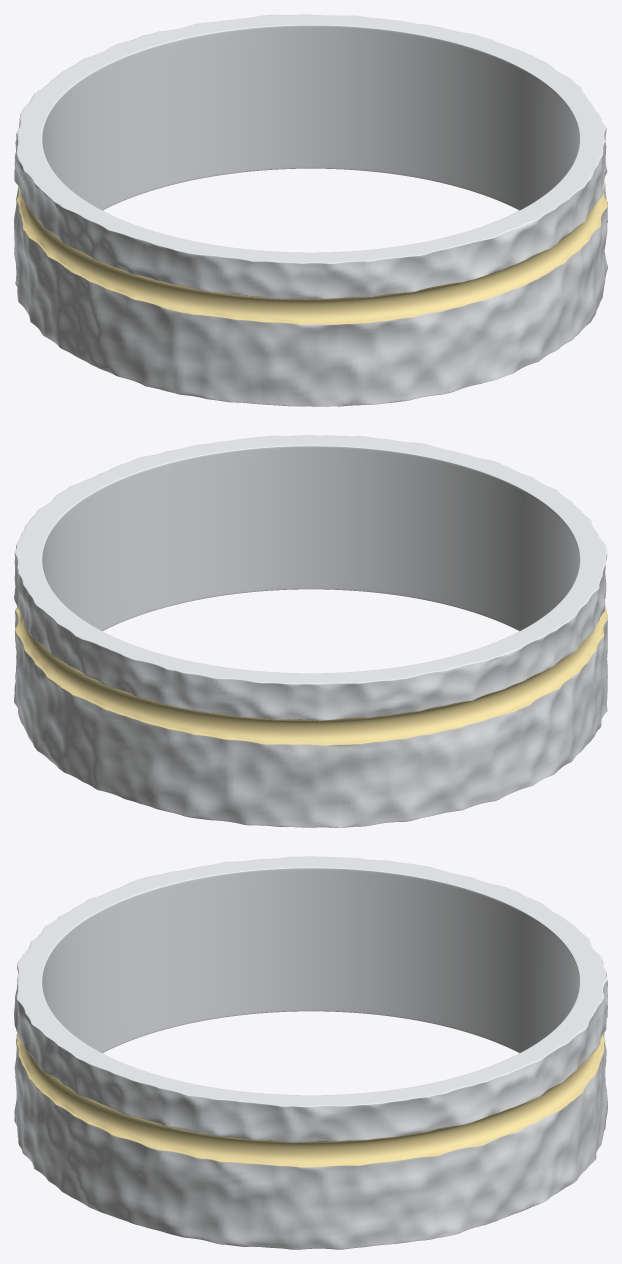
The picture shows the model from 3 angles, top to bottom: view 1: azimuth 30°, elevation 25°; view 2: azimuth 150°, elevation 25°; view 3: azimuth 270°, elevation 25°; orthographic projection.
Parts seen in each view (by area): view 1: Base_Metal, Engraving_Mesh, Finishing_Metal; view 2: Base_Metal, Engraving_Mesh, Finishing_Metal; view 3: Base_Metal, Engraving_Mesh, Finishing_Metal.
Part boxes in pixels (x1,y1,x2,y2): Base_Metal: (14,14,607,406); Engraving_Mesh: (41,24,580,252); Finishing_Metal: (16,183,607,324); Base_Metal: (14,435,607,827); Engraving_Mesh: (41,445,580,673); Finishing_Metal: (15,607,607,745); Base_Metal: (14,856,607,1249); Engraving_Mesh: (41,867,580,1095); Finishing_Metal: (16,1033,604,1167).
Bounding box in the file's own units: 2.25 × 0.6 × 2.25.
